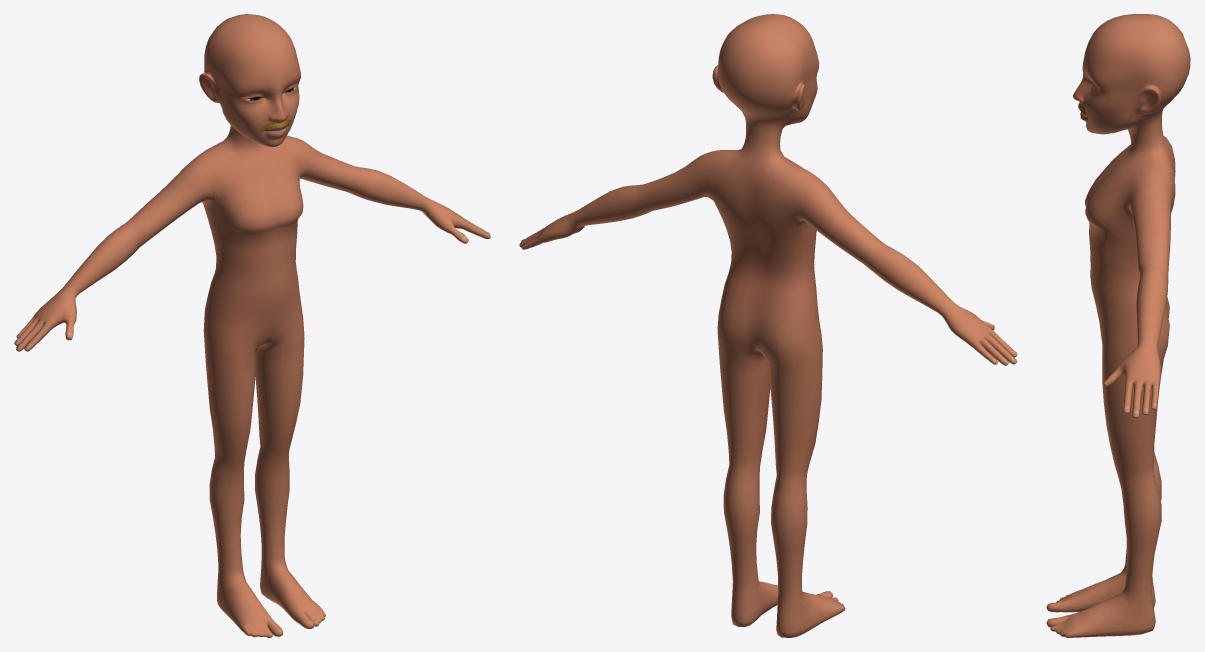
Rendered from frame_0066.glb.
3 renders of one model, left to right at view 1: azimuth 30°, elevation 25°; view 2: azimuth 150°, elevation 25°; view 3: azimuth 270°, elevation 25°, orthographic. The views are drawn at different scales.
Parts seen in each view (by area): view 1: frame_0066_head_geo; view 2: frame_0066_head_geo; view 3: frame_0066_head_geo.
Part boxes in pixels (x1,y1,x2,y2): frame_0066_head_geo: (14, 14, 490, 637); frame_0066_head_geo: (519, 14, 1017, 637); frame_0066_head_geo: (1046, 14, 1190, 637).
Bounding box in the file's own units: 1.28 × 1.5 × 0.3253.
Materials: 3 (3 with a texture image).
